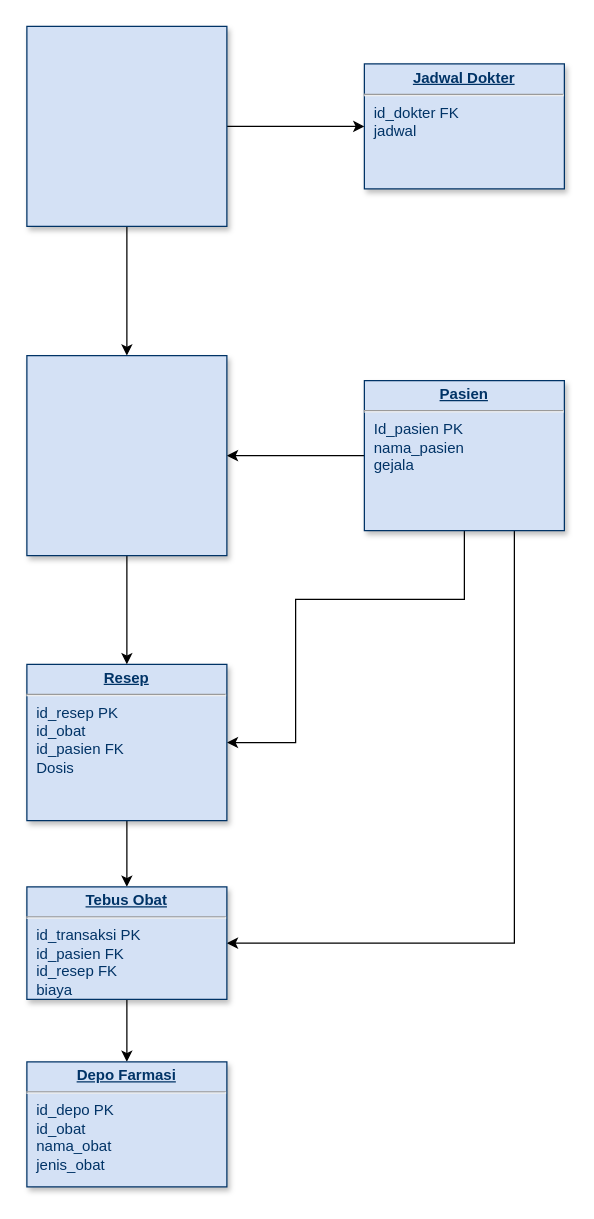
Some shapes in this 594 by 1219 pixel diagram are drawn without their labels. Each missing label, with the centre of its shape:
Appointment id_apt PK id_pasien FK id_resep FK jadwal: the point at 127,456
Dokter Id_dokter PK nama_dokter spesialis: the point at 127,127
